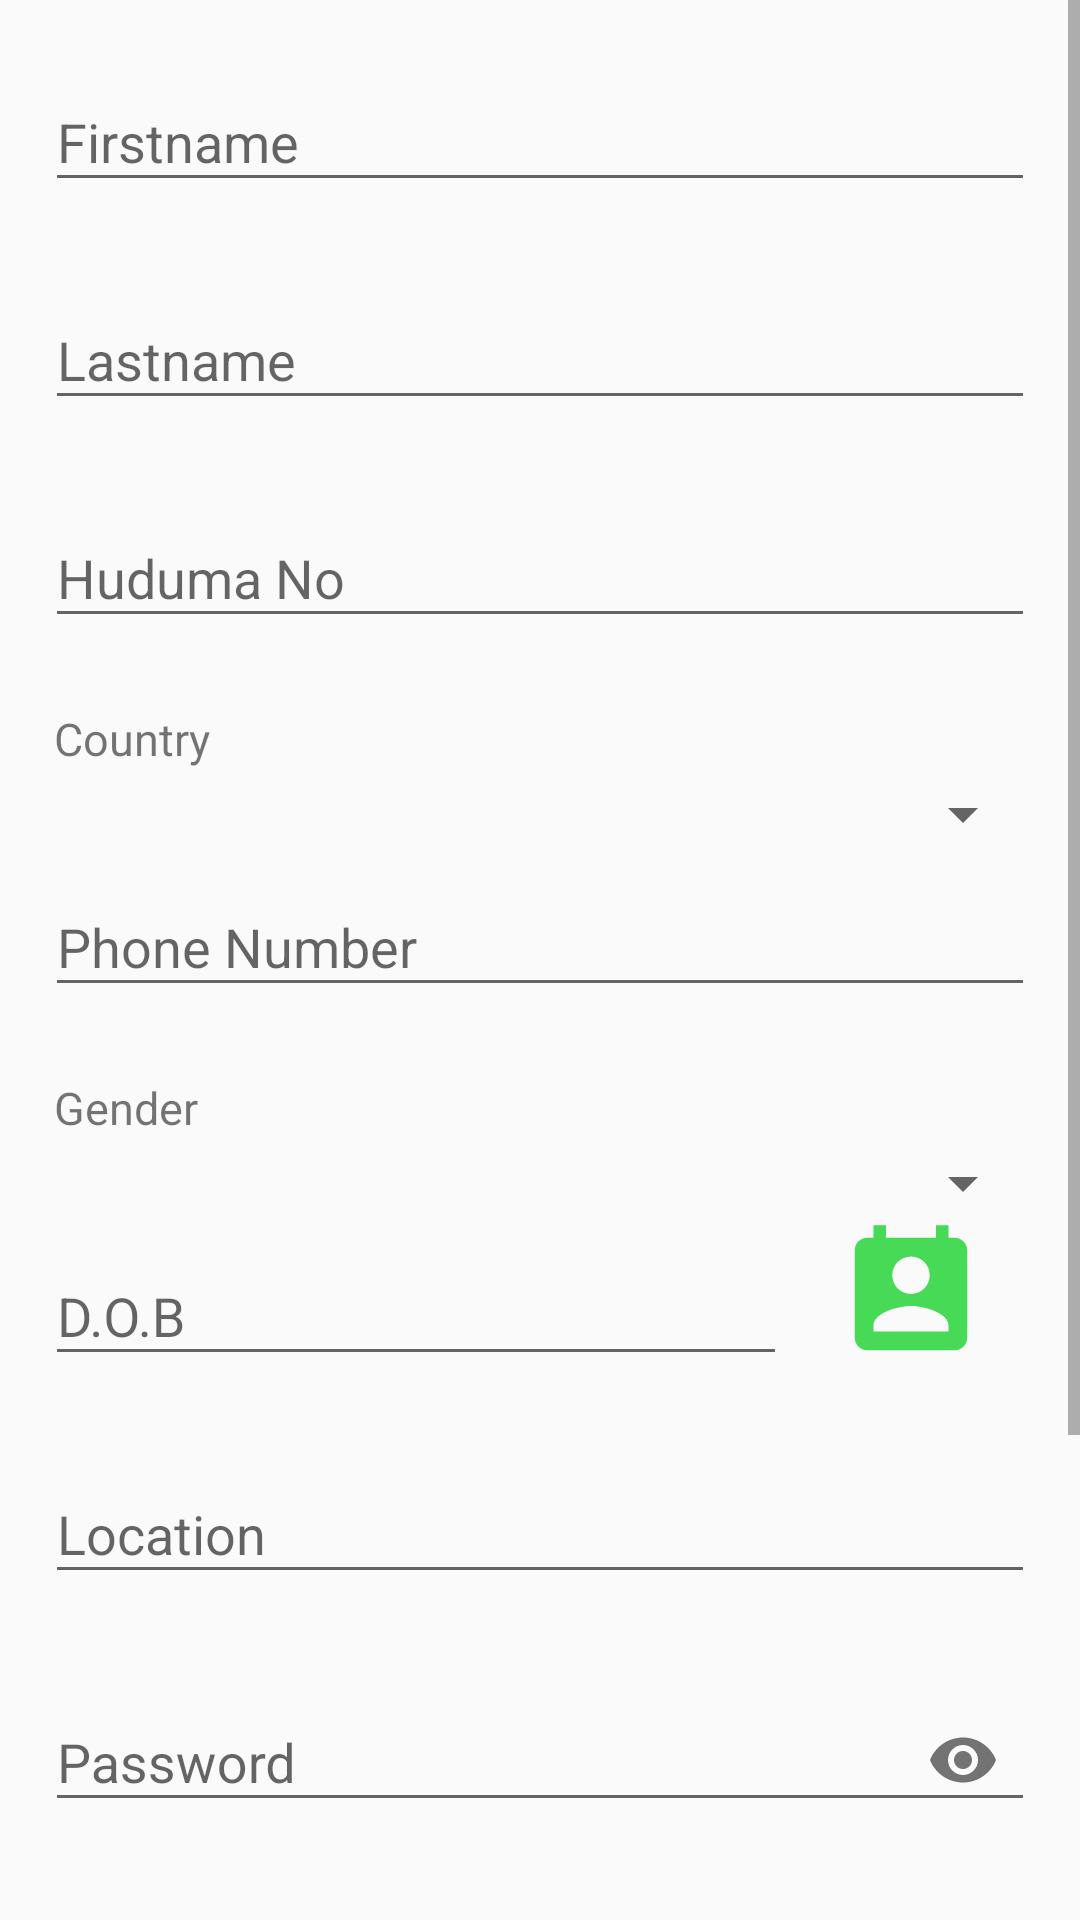

Point at icon controls on the screen. Image size 1080w x 1920h, points as (x,y).
datehere: (911,1288)
